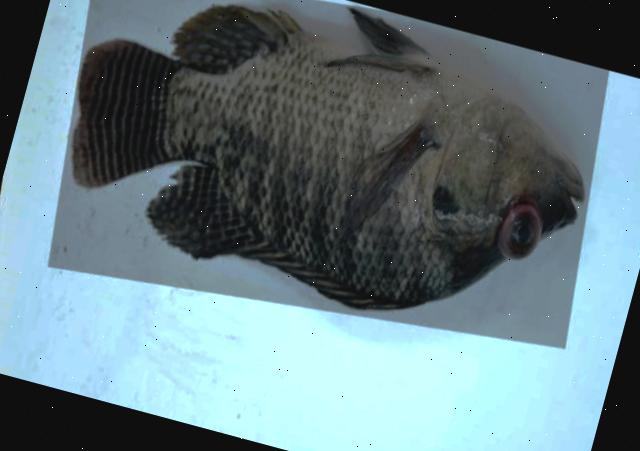Streptococcus: (72, 4, 584, 309), (72, 4, 584, 308), (71, 5, 584, 308)
